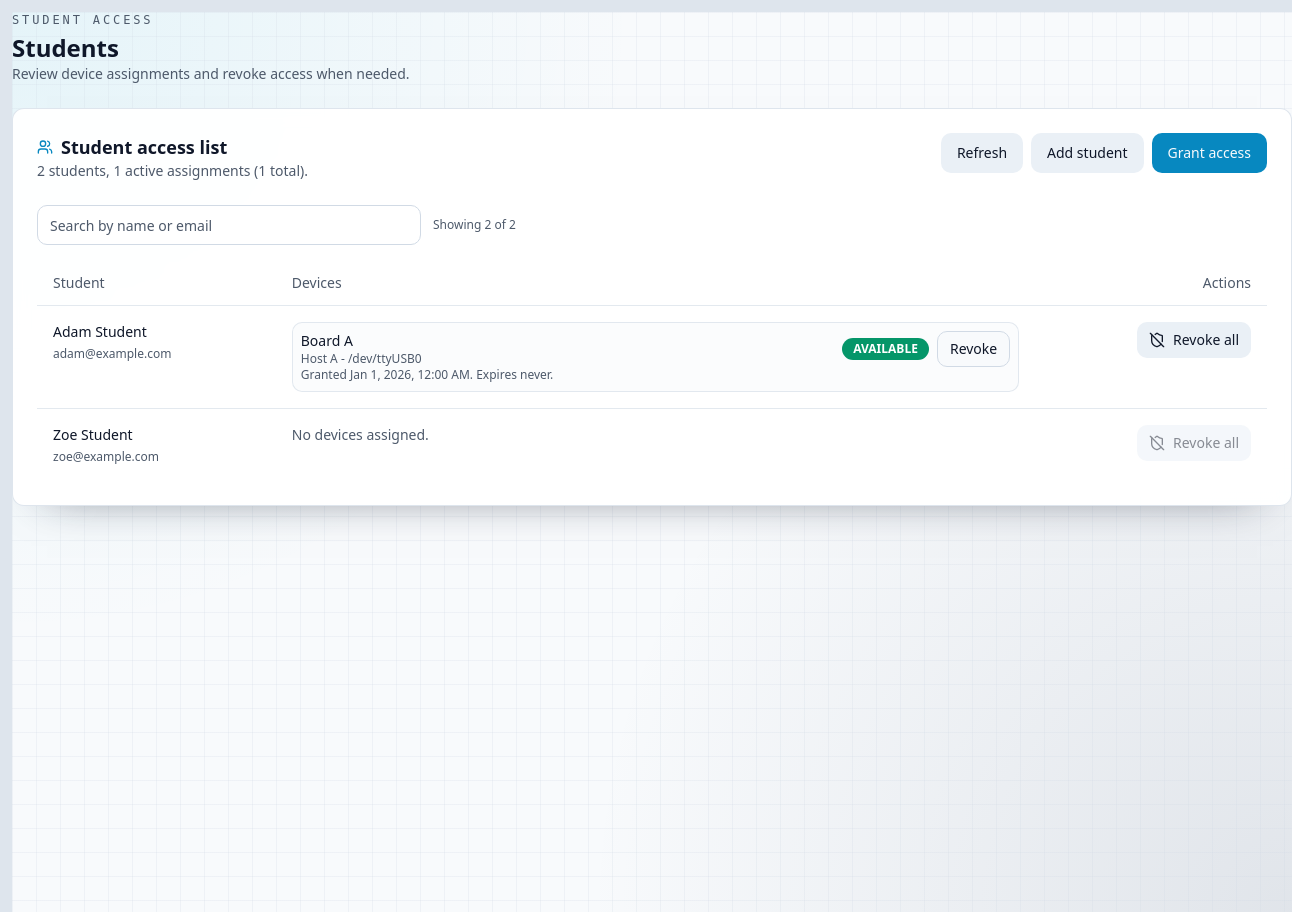
Test: StudentsPage › revokes single access assignment
Expected: the text "Adam Student" is shown, [53,322,147,340]
Click the button "Revoke" at (974, 348), box [937,330,1010,366]
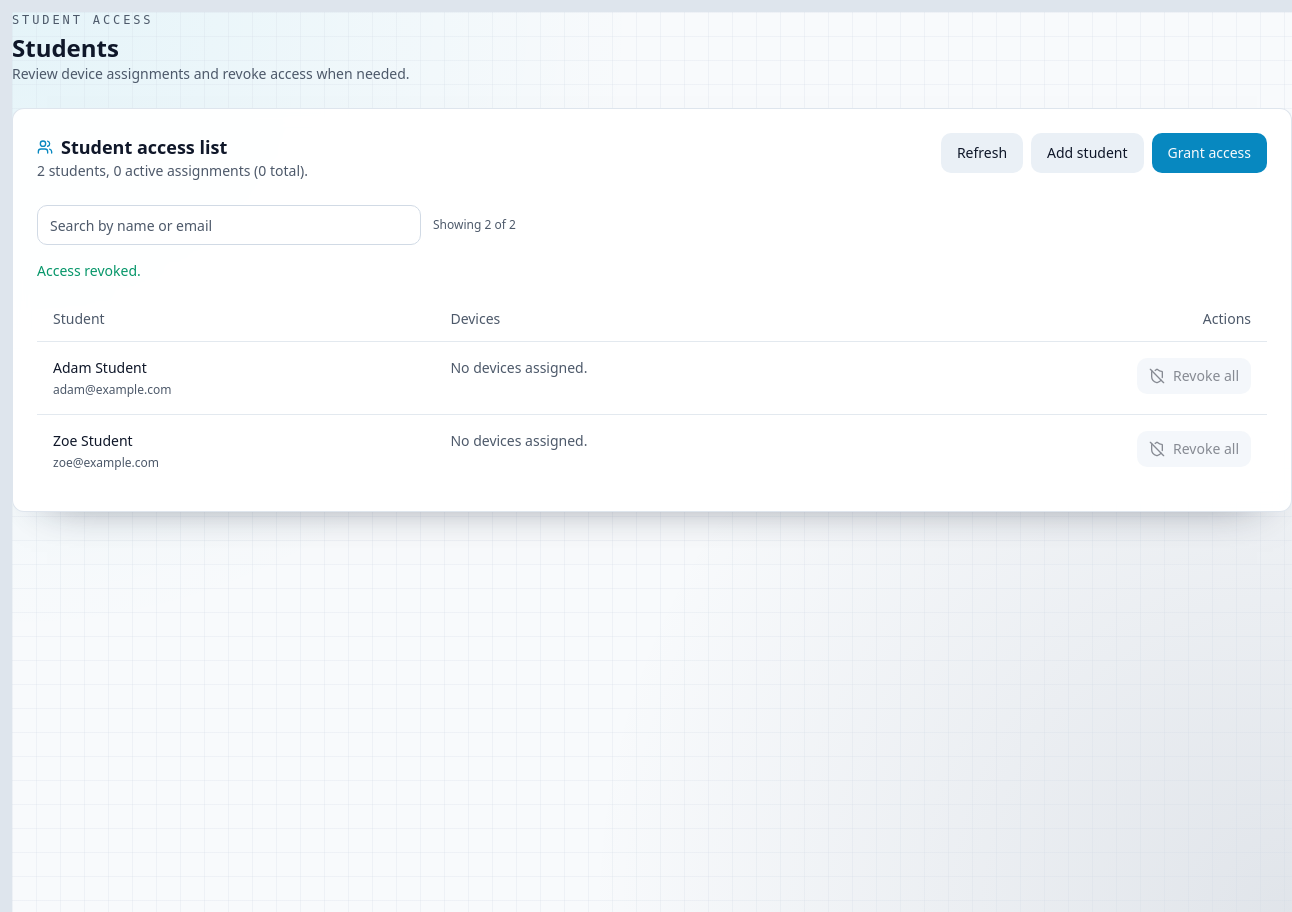
Result: the text "Access revoked." is shown at [37,261,141,280]
